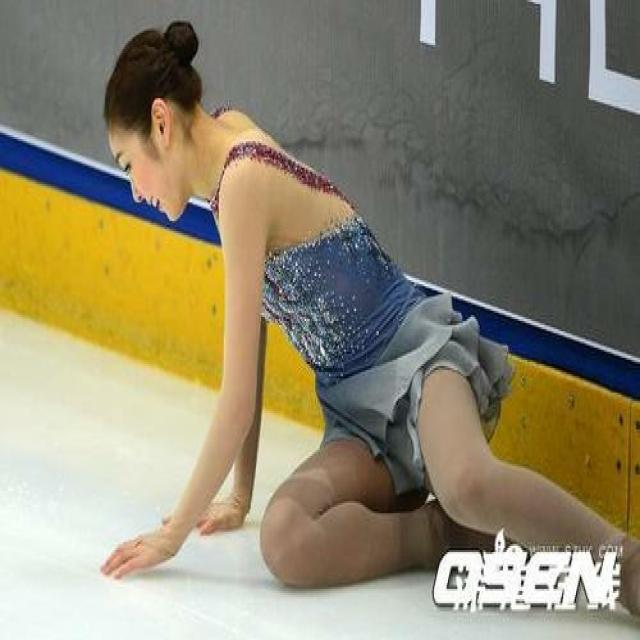down: (79, 8, 639, 626)
